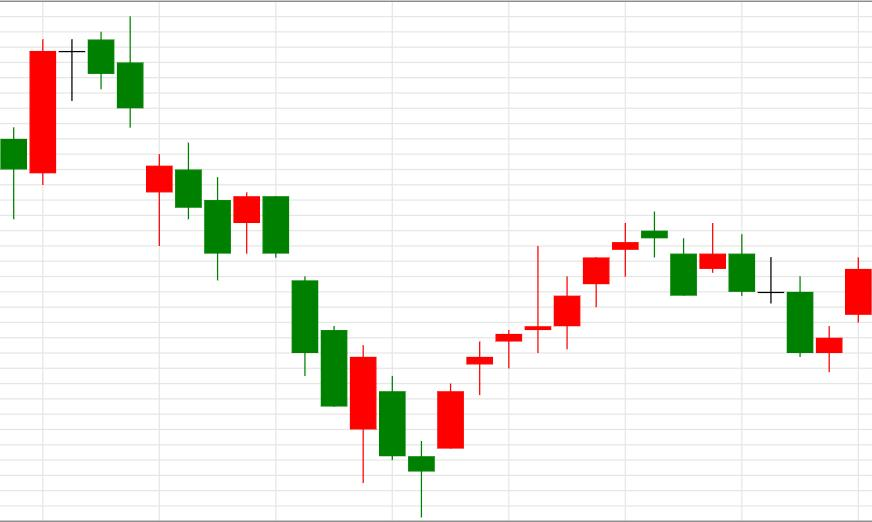morning_star_rise: (262, 197, 464, 517)
